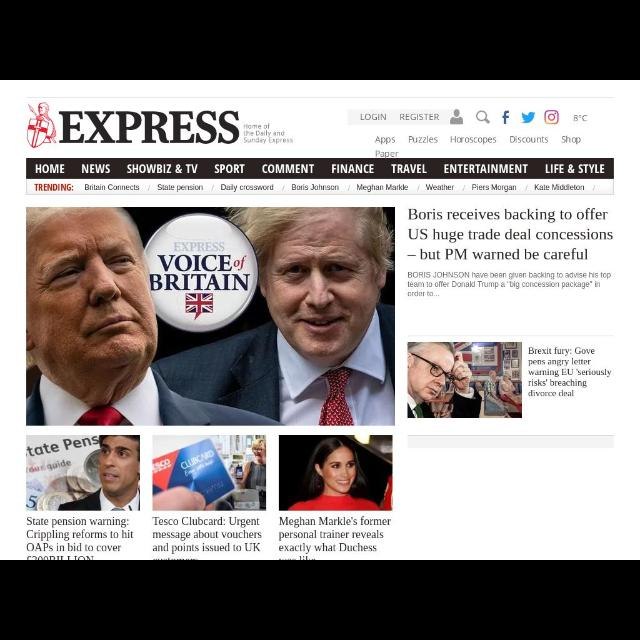icon: (476, 110, 492, 124), (451, 110, 464, 124)
image: (27, 207, 395, 425), (28, 101, 296, 149), (408, 342, 522, 418), (26, 436, 140, 510), (279, 436, 393, 510), (154, 436, 266, 510), (543, 109, 559, 125), (520, 110, 536, 124), (502, 110, 512, 124)
multitab: (27, 158, 613, 178), (27, 180, 613, 196)
text: (406, 207, 614, 261), (406, 270, 612, 298), (25, 515, 135, 559), (151, 514, 263, 556), (277, 515, 393, 555), (528, 346, 612, 398), (443, 164, 529, 174), (126, 163, 198, 174), (544, 163, 606, 174), (262, 162, 314, 174), (220, 183, 276, 193), (330, 163, 374, 174), (449, 136, 497, 146), (156, 183, 204, 193), (472, 184, 518, 194), (84, 184, 140, 192), (390, 163, 428, 174), (356, 184, 408, 192), (533, 184, 585, 192), (34, 182, 74, 192), (292, 184, 341, 192), (508, 136, 550, 144), (213, 164, 244, 174), (36, 164, 64, 174), (82, 164, 110, 174), (560, 134, 582, 146), (408, 136, 438, 144), (425, 184, 455, 192), (374, 136, 396, 146), (374, 150, 400, 158), (572, 114, 588, 122)
textbutton: (394, 110, 450, 124), (348, 110, 394, 124)
toolbar: (27, 96, 613, 158)
